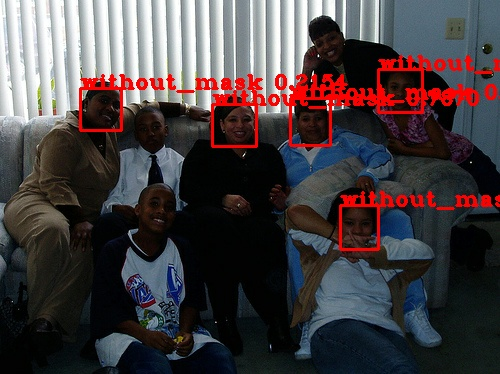without_mask: (328, 191, 378, 250), (135, 182, 179, 238), (211, 100, 257, 149), (82, 83, 123, 132), (130, 109, 172, 152), (291, 102, 331, 146), (381, 72, 420, 113), (308, 25, 348, 63)
